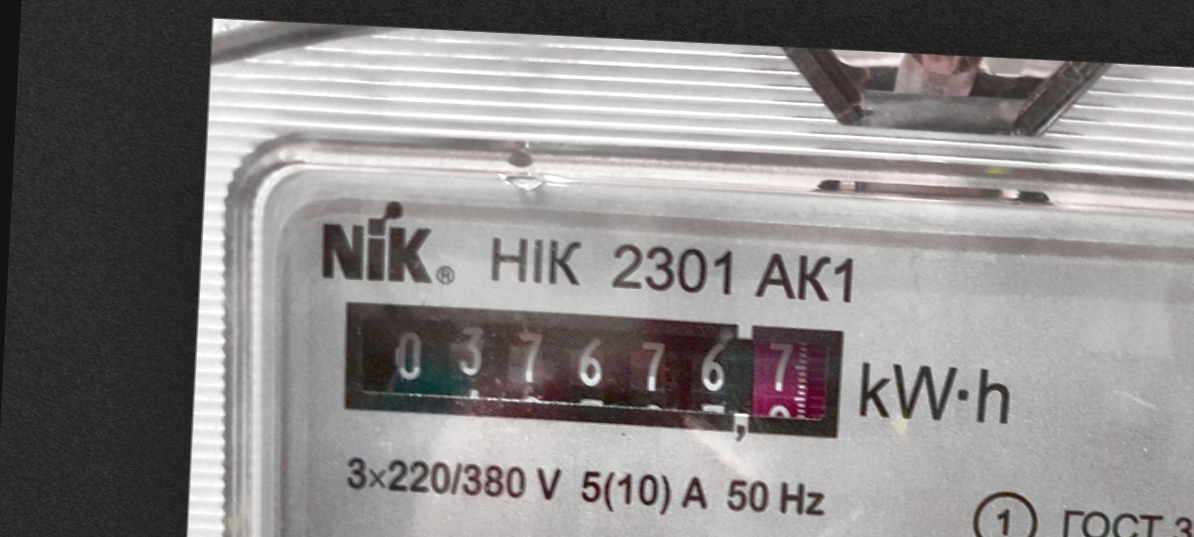0: (391, 326, 428, 383)
3: (455, 321, 485, 379)
6: (573, 333, 608, 388), (697, 338, 729, 394)
7: (635, 337, 669, 397), (512, 328, 546, 386), (765, 338, 795, 395)
screen: (325, 285, 860, 457)
